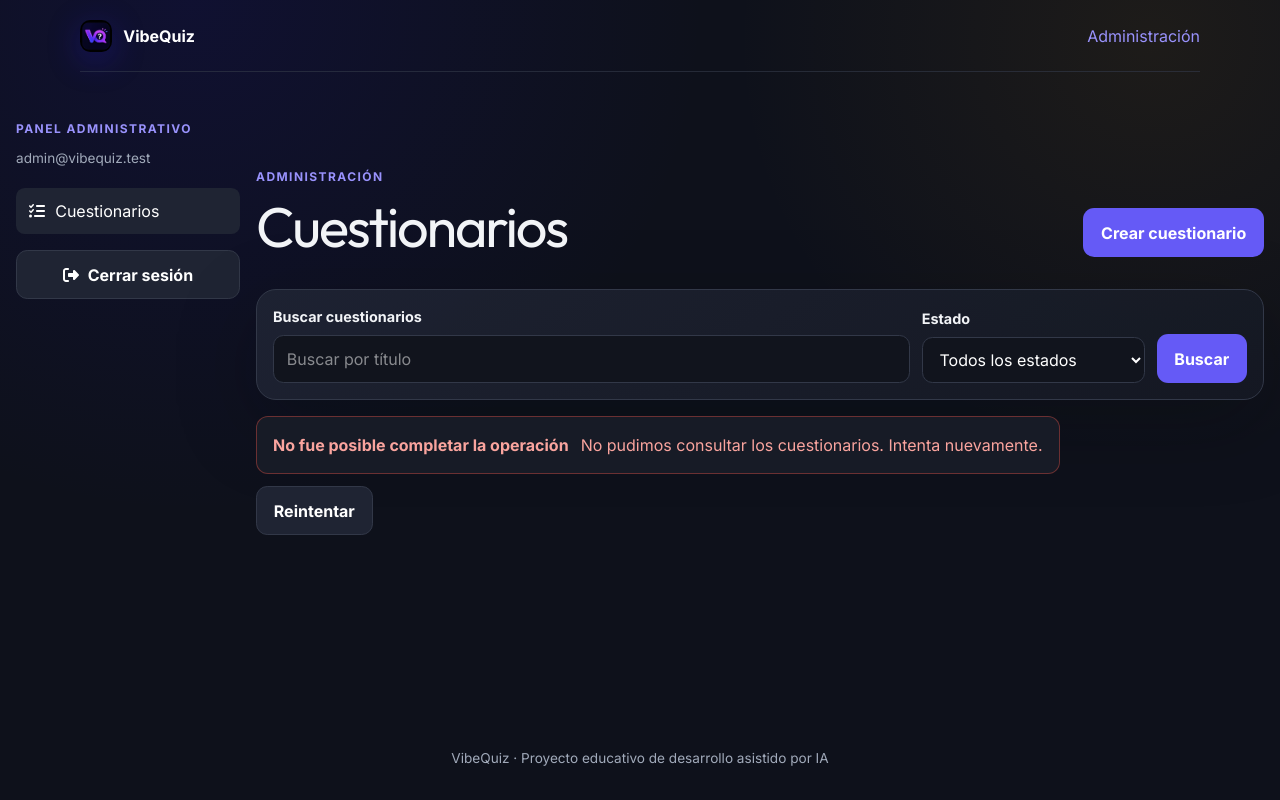
Scenario: administrative quiz list › shows a recoverable error and retries the request
Click the button "Reintentar" at (314,511), box [256,486,373,535]
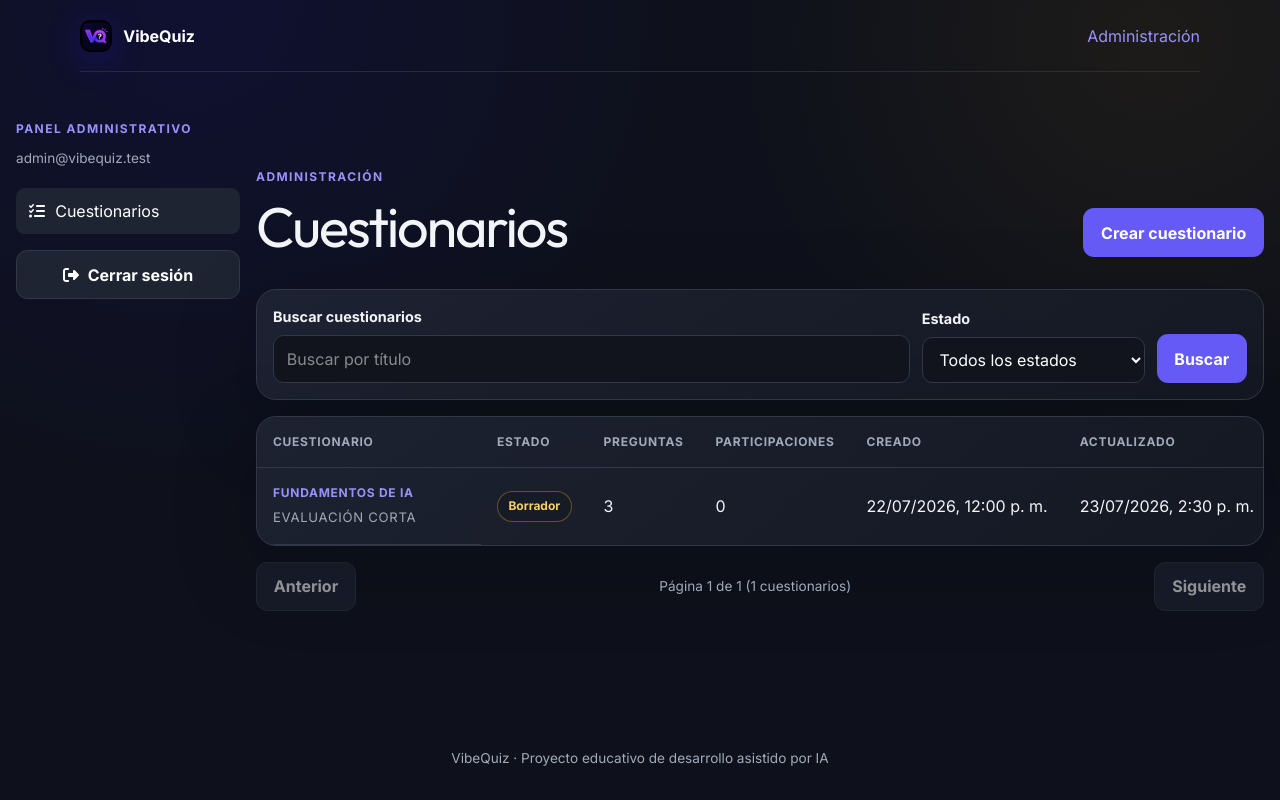
Result: the link "Fundamentos de IA" is shown at [273,485,414,500]
